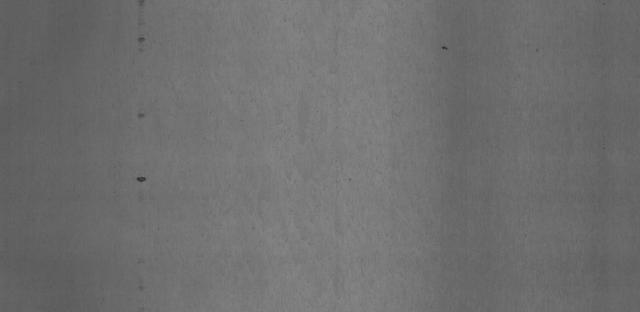oil_spot: (135, 0, 149, 50), (133, 171, 147, 192), (135, 102, 147, 120)
